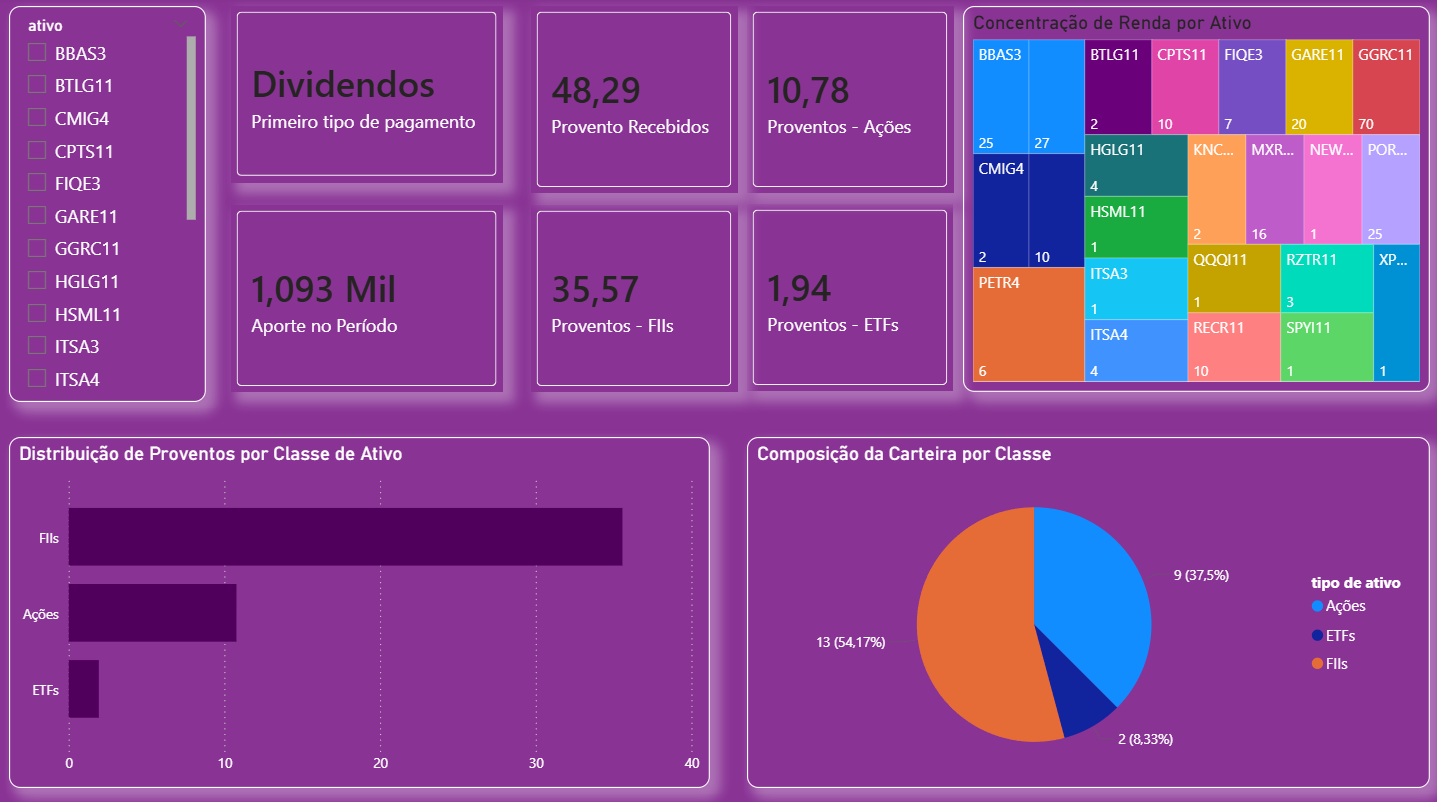

Layout of this report page (visuals, bound fields, positions):
{"tool":"powerbi","page":{"name":"Página 1","canvas":[1280,720],"ordinal":0},"visuals":[{"type":"cardVisual","fields":{"Data":["ativo (Proventos).Proventos FIIs"]},"box":[471.6,184.7,183.5,166.1],"z":0},{"type":"cardVisual","fields":{"Data":["Ativo (Movimentações).Total investido no Mes"]},"box":[205.6,184.7,241.6,166.1],"z":1000},{"type":"cardVisual","fields":{"Data":["Ativo (Movimentações).Provento Totais"]},"box":[471.6,8.1,183.5,166.1],"z":2000},{"type":"cardVisual","fields":{"Data":["ativo (Proventos).Proventos Ações"]},"box":[664.4,8.1,183.5,166.1],"z":3000},{"type":"cardVisual","fields":{"Data":["ativo (Proventos).Proventos ETFs"]},"box":[664.2,184.4,183.4,166.3],"z":4000},{"type":"clusteredBarChart","title":"Distribuição de Proventos por Classe de Ativo","fields":{"Category":["ativo (Proventos).tipo de ativo"],"Y":["Ativo (Movimentações).Provento Totais"]},"box":[8.1,391.4,622.6,312.5],"z":5000},{"type":"pieChart","title":"Composição da Carteira por Classe","fields":{"Y":["CountNonNull(ativo (Proventos).ativo)"],"Series":["ativo (Proventos).tipo de ativo"]},"box":[664.4,391.4,607.5,312.5],"z":6000},{"type":"slicer","fields":{"Values":["ativo (Proventos).ativo"]},"box":[8.1,8.1,175.4,351.7],"z":7000},{"type":"cardVisual","fields":{"Data":["Min(ativo (Proventos).tipo de pagamento)"]},"box":[205.6,8.1,241.6,156.8],"z":8000},{"type":"treemap","title":"Concentração de Renda por Ativo","fields":{"Group":["ativo (Proventos).ativo"],"Details":["ativo (Proventos).Quantidade"],"Values":["CountNonNull(ativo (Proventos).tipo de ativo)"]},"box":[855.7,8.1,415.2,342.7],"z":9000}]}

Visuals, with their boxes in screenshot pixels (x1, y1, x2, y2), scaled from the page's 1280x720 canvas onto the 1437x802 screenshot:
cardVisual - ativo (Proventos).Proventos FIIs: crop(529, 206, 735, 391)
cardVisual - Ativo (Movimentações).Total investido no Mes: crop(231, 206, 502, 391)
cardVisual - Ativo (Movimentações).Provento Totais: crop(529, 9, 735, 194)
cardVisual - ativo (Proventos).Proventos Ações: crop(746, 9, 952, 194)
cardVisual - ativo (Proventos).Proventos ETFs: crop(746, 205, 952, 391)
"Distribuição de Proventos por Classe de Ativo" clusteredBarChart: crop(9, 436, 708, 784)
"Composição da Carteira por Classe" pieChart: crop(746, 436, 1428, 784)
slicer - ativo (Proventos).ativo: crop(9, 9, 206, 401)
cardVisual - Min(ativo (Proventos).tipo de pagamento): crop(231, 9, 502, 184)
"Concentração de Renda por Ativo" treemap: crop(961, 9, 1427, 391)
